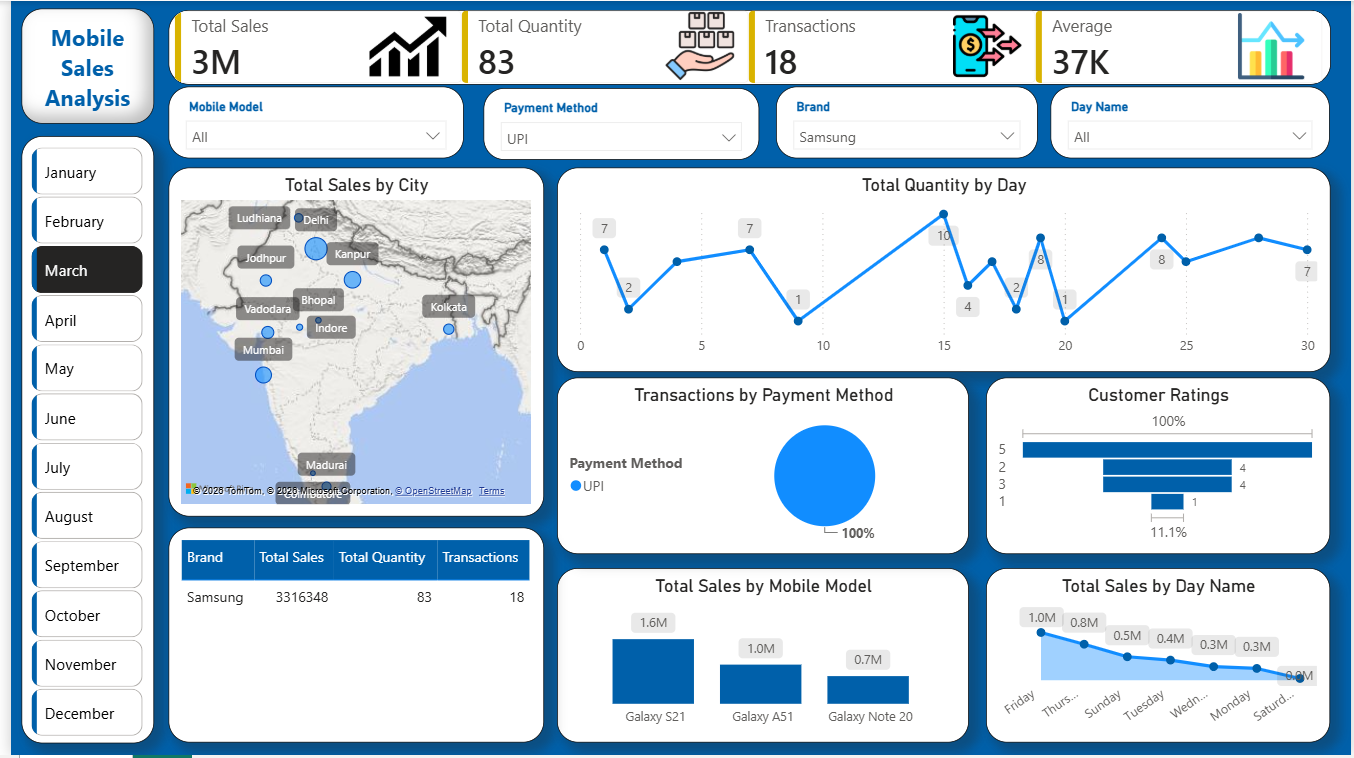

This screenshot's page, from the dashboard's own definition file:
{"tool":"powerbi","page":{"name":"Page 1","canvas":[1280,720],"ordinal":0},"visuals":[{"type":"shape","box":[10,128.3,126.7,580],"z":0},{"type":"advancedSlicerVisual","fields":{"Values":["Mobile_Sales_Data.Date.Variation.Date Hierarchy.Month"]},"box":[15,135,116.7,573.3],"z":1000},{"type":"map","fields":{"Category":["Mobile_Sales_Data.City"],"Size":["Mobile_Sales_Data.Total Sales"]},"box":[150,158.3,358.3,333.3],"z":2000},{"type":"lineChart","fields":{"Y":["Mobile_Sales_Data.Total Quantity"],"Category":["Mobile_Sales_Data.Date.Variation.Date Hierarchy.Month","Mobile_Sales_Data.Date.Variation.Date Hierarchy.Day"]},"box":[521.7,158.3,738.3,195],"z":3000},{"type":"clusteredColumnChart","fields":{"Category":["Mobile_Sales_Data.Mobile Model"],"Y":["Mobile_Sales_Data.Total Sales"]},"box":[521.7,541.7,393.3,166.7],"z":4000},{"type":"textbox","box":[10,6.7,126.7,110],"z":5000},{"type":"pieChart","fields":{"Category":["Mobile_Sales_Data.Payment Method"],"Y":["Mobile_Sales_Data.Transactions"]},"box":[521.7,360,393.3,168.3],"z":6000},{"type":"funnel","title":"Customer Ratings","fields":{"Category":["Mobile_Sales_Data.Customer Ratings"],"Y":["CountNonNull(Mobile_Sales_Data.Customer Ratings)"]},"box":[931.7,360,328.3,168.3],"z":7000},{"type":"areaChart","fields":{"Category":["Mobile_Sales_Data.Day Name"],"Y":["Mobile_Sales_Data.Total Sales"]},"box":[931.7,541.7,328.3,166.7],"z":8000},{"type":"tableEx","fields":{"Values":["Mobile_Sales_Data.Brand","Mobile_Sales_Data.Total Sales","Mobile_Sales_Data.Total Quantity","Mobile_Sales_Data.Transactions"]},"box":[150,503.3,358.3,205],"z":9000},{"type":"slicer","fields":{"Values":["Mobile_Sales_Data.Mobile Model"]},"box":[150,81.7,281.7,68.3],"z":10000},{"type":"slicer","fields":{"Values":["Mobile_Sales_Data.Payment Method"]},"box":[451.7,83.3,263.3,68.3],"z":11000},{"type":"slicer","fields":{"Values":["Mobile_Sales_Data.Brand"]},"box":[730,81.7,250,68.3],"z":12000},{"type":"slicer","fields":{"Values":["Mobile_Sales_Data.Day Name"]},"box":[993.3,81.7,266.7,68.3],"z":13000},{"type":"cardVisual","fields":{"Data":["Mobile_Sales_Data.Total Sales","Mobile_Sales_Data.Total Quantity","Mobile_Sales_Data.Transactions","Mobile_Sales_Data.Average"]},"box":[150,8,1110,71],"z":14000},{"type":"image","box":[625,5,66.7,76.7],"z":15000},{"type":"image","box":[1161.7,11.7,83.3,63.3],"z":16000},{"type":"image","box":[900,1.7,65,83.3],"z":17000},{"type":"image","box":[341.7,3.3,73.3,81.7],"z":18000}]}

Visuals, with their boxes in screenshot pixels (x1, y1, x2, y2), scaled from the page's 1280x720 canvas onto the 1354x758 screenshot:
shape: (x1=11, y1=135, x2=145, y2=746)
advancedSlicerVisual - Mobile_Sales_Data.Date.Variation.Date Hierarchy.Month: (x1=16, y1=142, x2=139, y2=746)
map - Mobile_Sales_Data.City x Mobile_Sales_Data.Total Sales: (x1=159, y1=167, x2=538, y2=518)
lineChart - Mobile_Sales_Data.Total Quantity x Mobile_Sales_Data.Date.Variation.Date Hierarchy.Month: (x1=552, y1=167, x2=1333, y2=372)
clusteredColumnChart - Mobile_Sales_Data.Mobile Model x Mobile_Sales_Data.Total Sales: (x1=552, y1=570, x2=968, y2=746)
textbox: (x1=11, y1=7, x2=145, y2=123)
pieChart - Mobile_Sales_Data.Payment Method x Mobile_Sales_Data.Transactions: (x1=552, y1=379, x2=968, y2=556)
"Customer Ratings" funnel: (x1=986, y1=379, x2=1333, y2=556)
areaChart - Mobile_Sales_Data.Day Name x Mobile_Sales_Data.Total Sales: (x1=986, y1=570, x2=1333, y2=746)
tableEx - Mobile_Sales_Data.Brand x Mobile_Sales_Data.Total Sales: (x1=159, y1=530, x2=538, y2=746)
slicer - Mobile_Sales_Data.Mobile Model: (x1=159, y1=86, x2=457, y2=158)
slicer - Mobile_Sales_Data.Payment Method: (x1=478, y1=88, x2=756, y2=160)
slicer - Mobile_Sales_Data.Brand: (x1=772, y1=86, x2=1037, y2=158)
slicer - Mobile_Sales_Data.Day Name: (x1=1051, y1=86, x2=1333, y2=158)
cardVisual - Mobile_Sales_Data.Total Sales x Mobile_Sales_Data.Total Quantity: (x1=159, y1=8, x2=1333, y2=83)
image: (x1=661, y1=5, x2=732, y2=86)
image: (x1=1229, y1=12, x2=1317, y2=79)
image: (x1=952, y1=2, x2=1021, y2=89)
image: (x1=361, y1=3, x2=439, y2=89)
